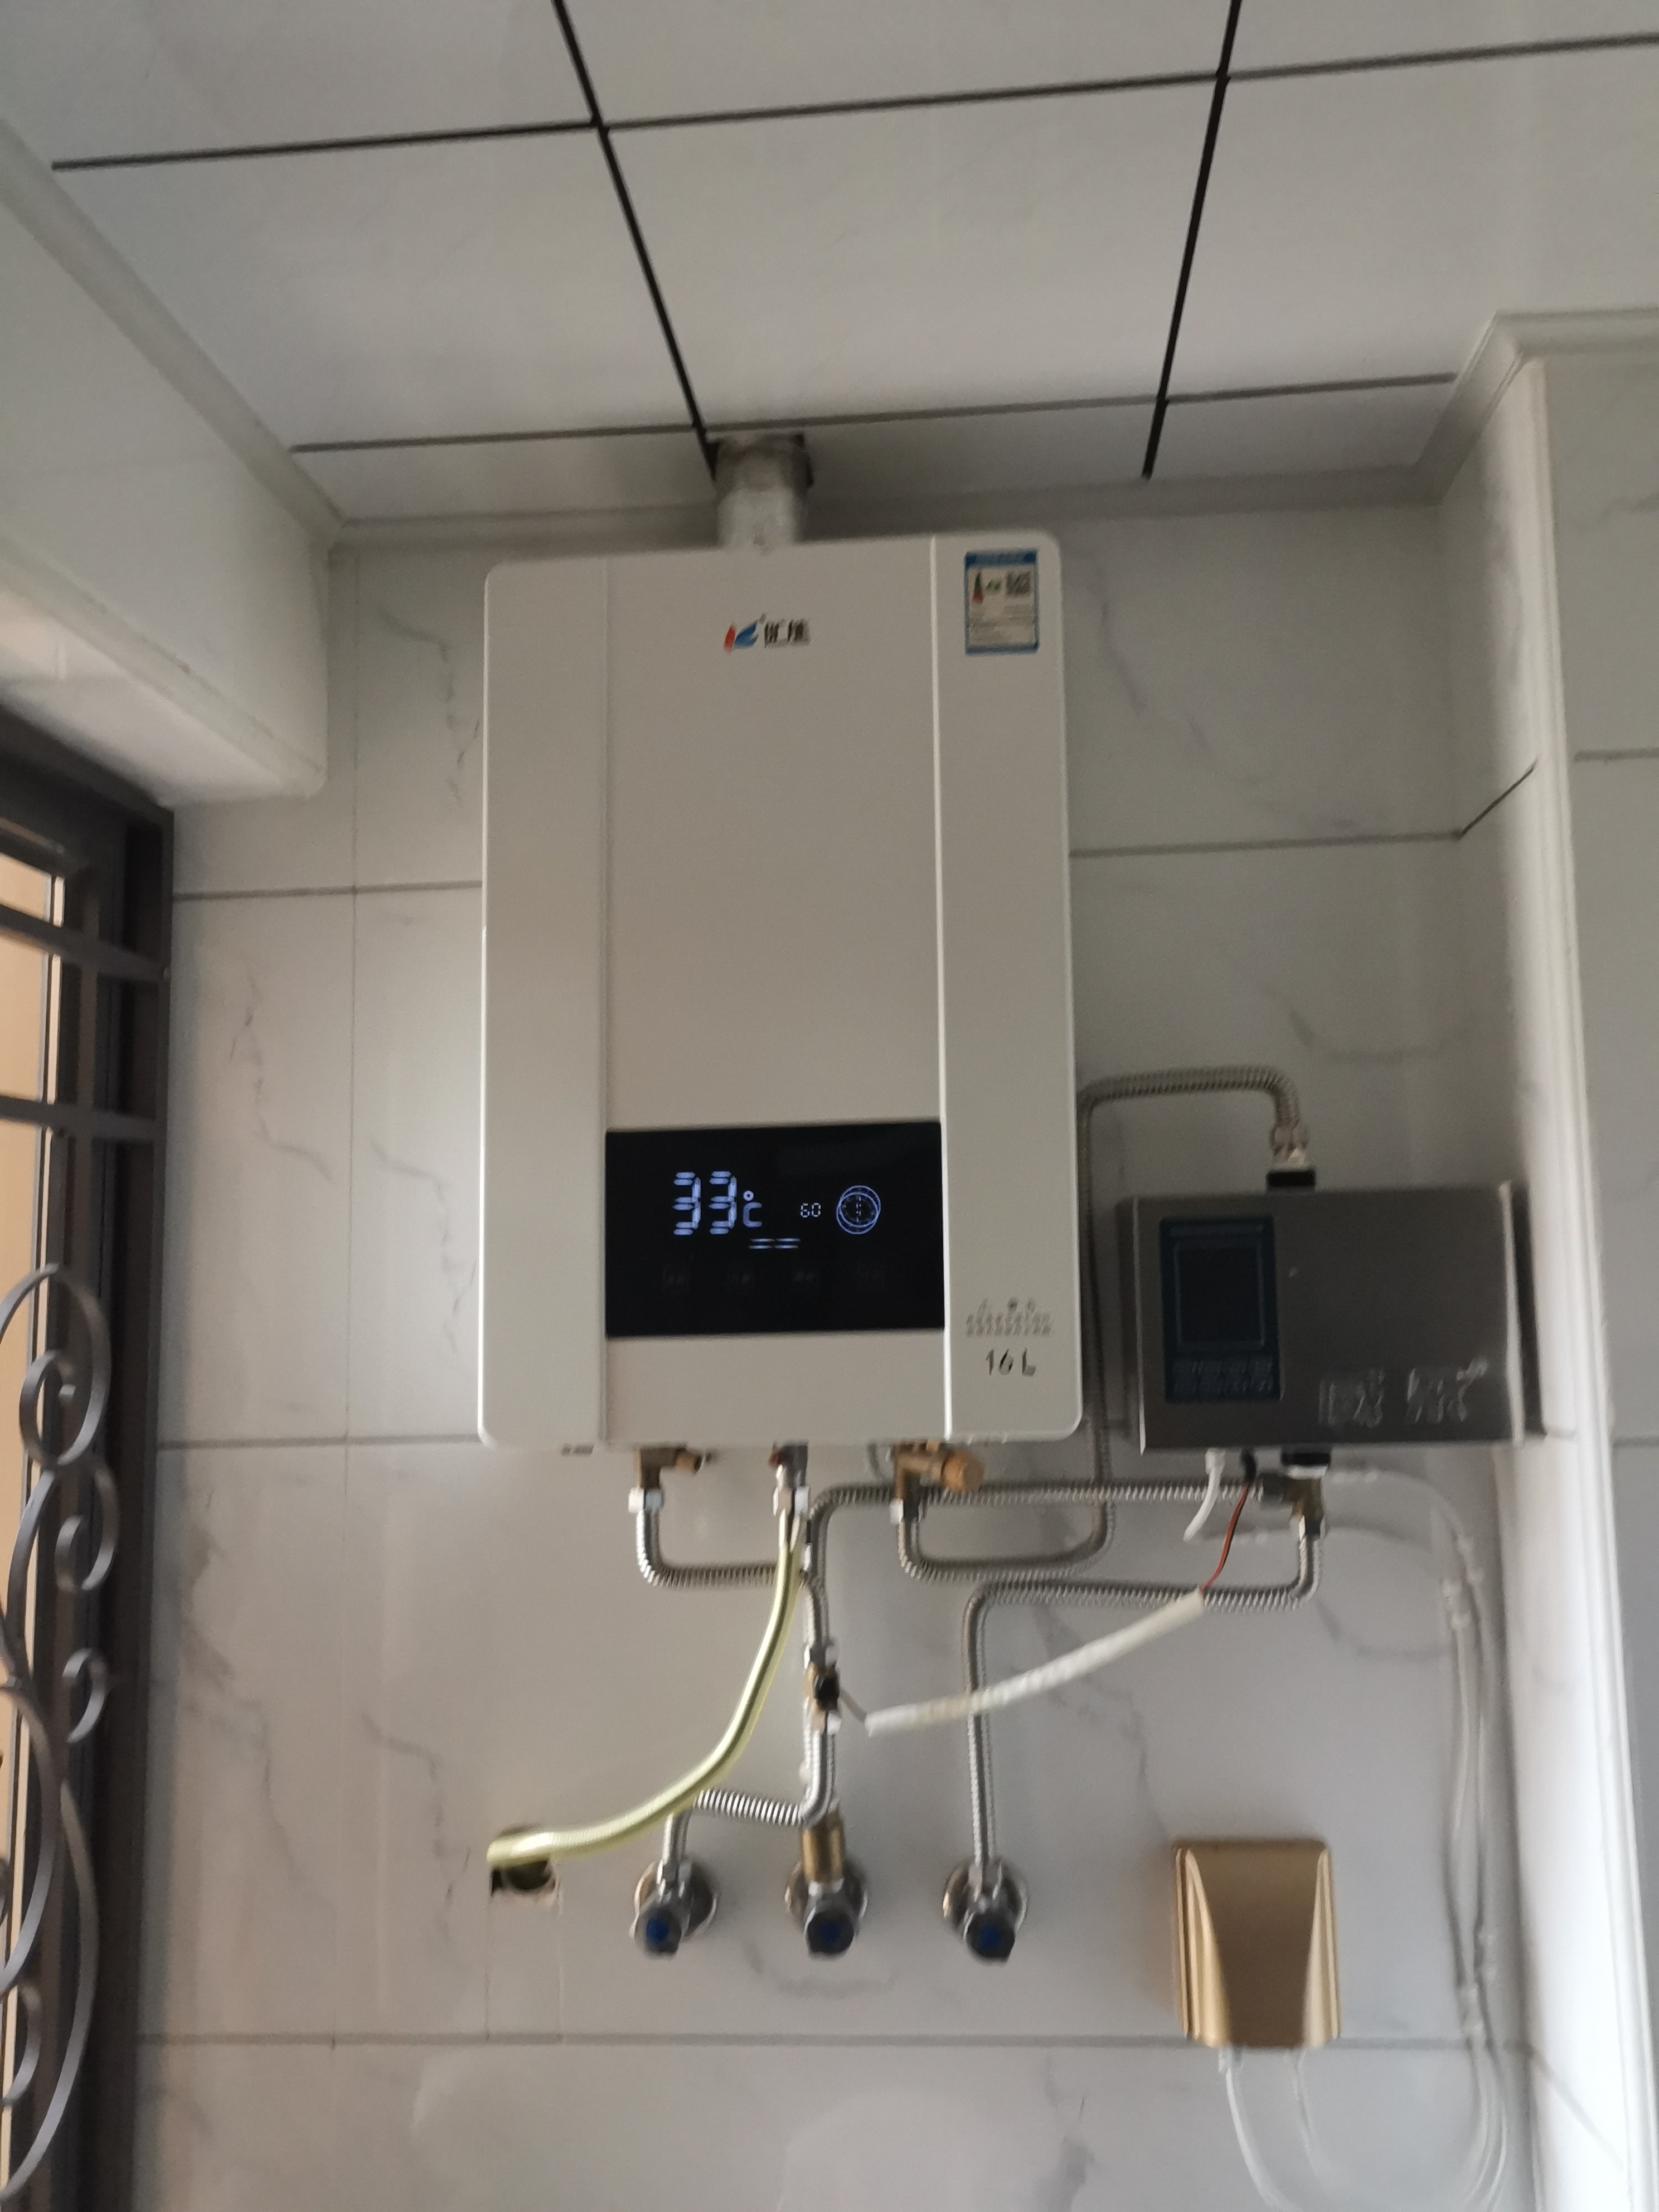loudou: (699, 610, 849, 660)
